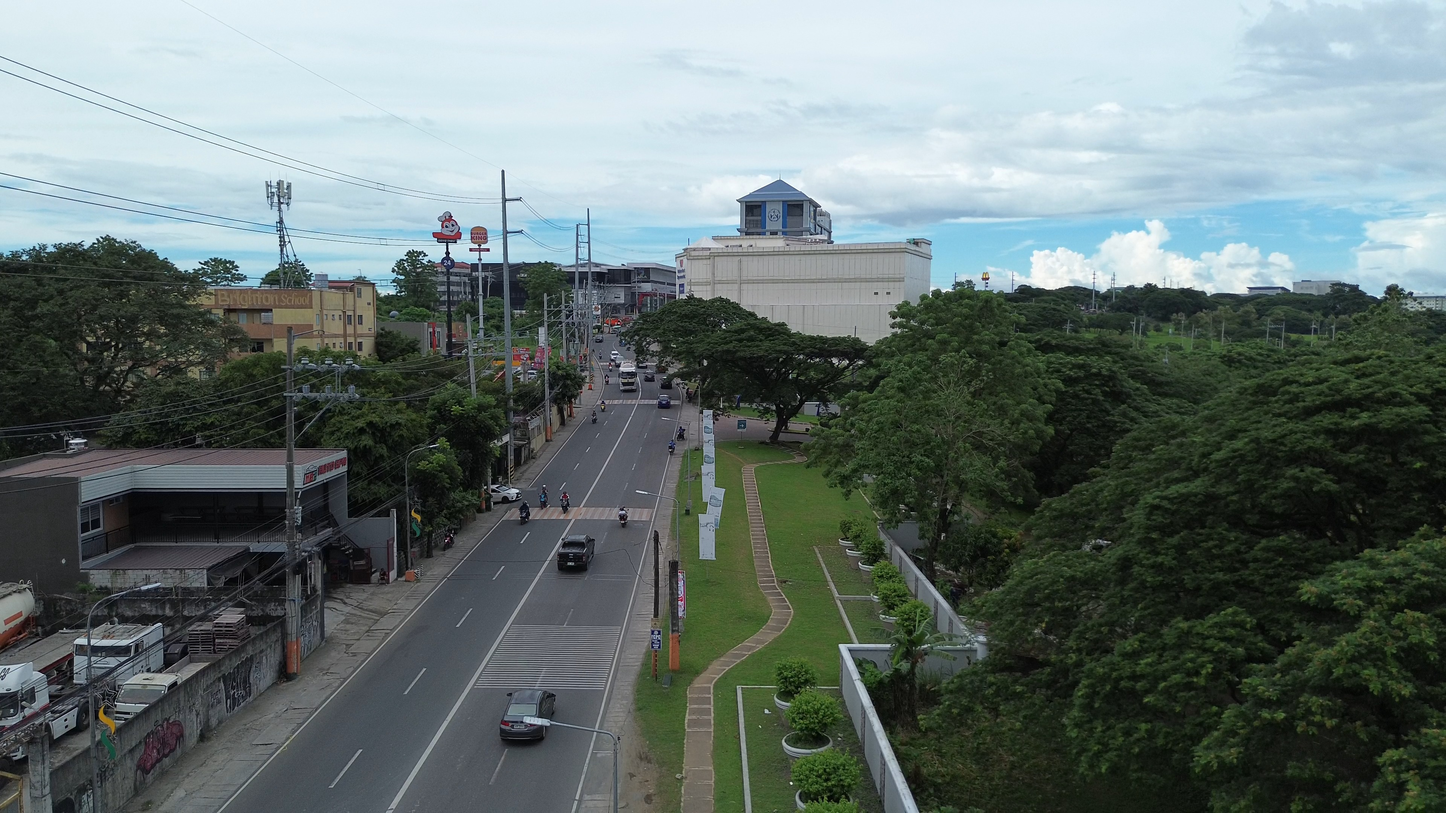car: (499, 689, 555, 740), (488, 483, 521, 502), (657, 394, 671, 409), (610, 350, 621, 361), (643, 371, 655, 381), (593, 333, 604, 343)
motorcycle: (442, 530, 455, 551), (519, 503, 530, 525), (559, 496, 570, 515), (618, 508, 628, 527), (668, 440, 676, 455)
vehicle: (74, 623, 163, 683), (111, 673, 180, 722), (0, 582, 35, 648), (557, 534, 595, 569), (618, 361, 638, 391), (519, 502, 530, 525), (618, 507, 628, 527), (659, 375, 673, 389), (643, 370, 655, 381), (610, 350, 621, 362)
